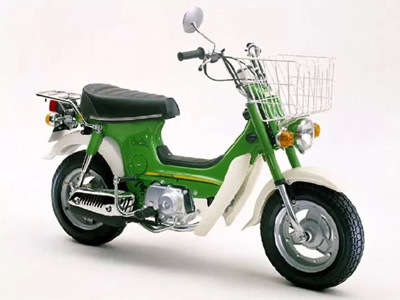motorcycle: (36, 7, 365, 289)
